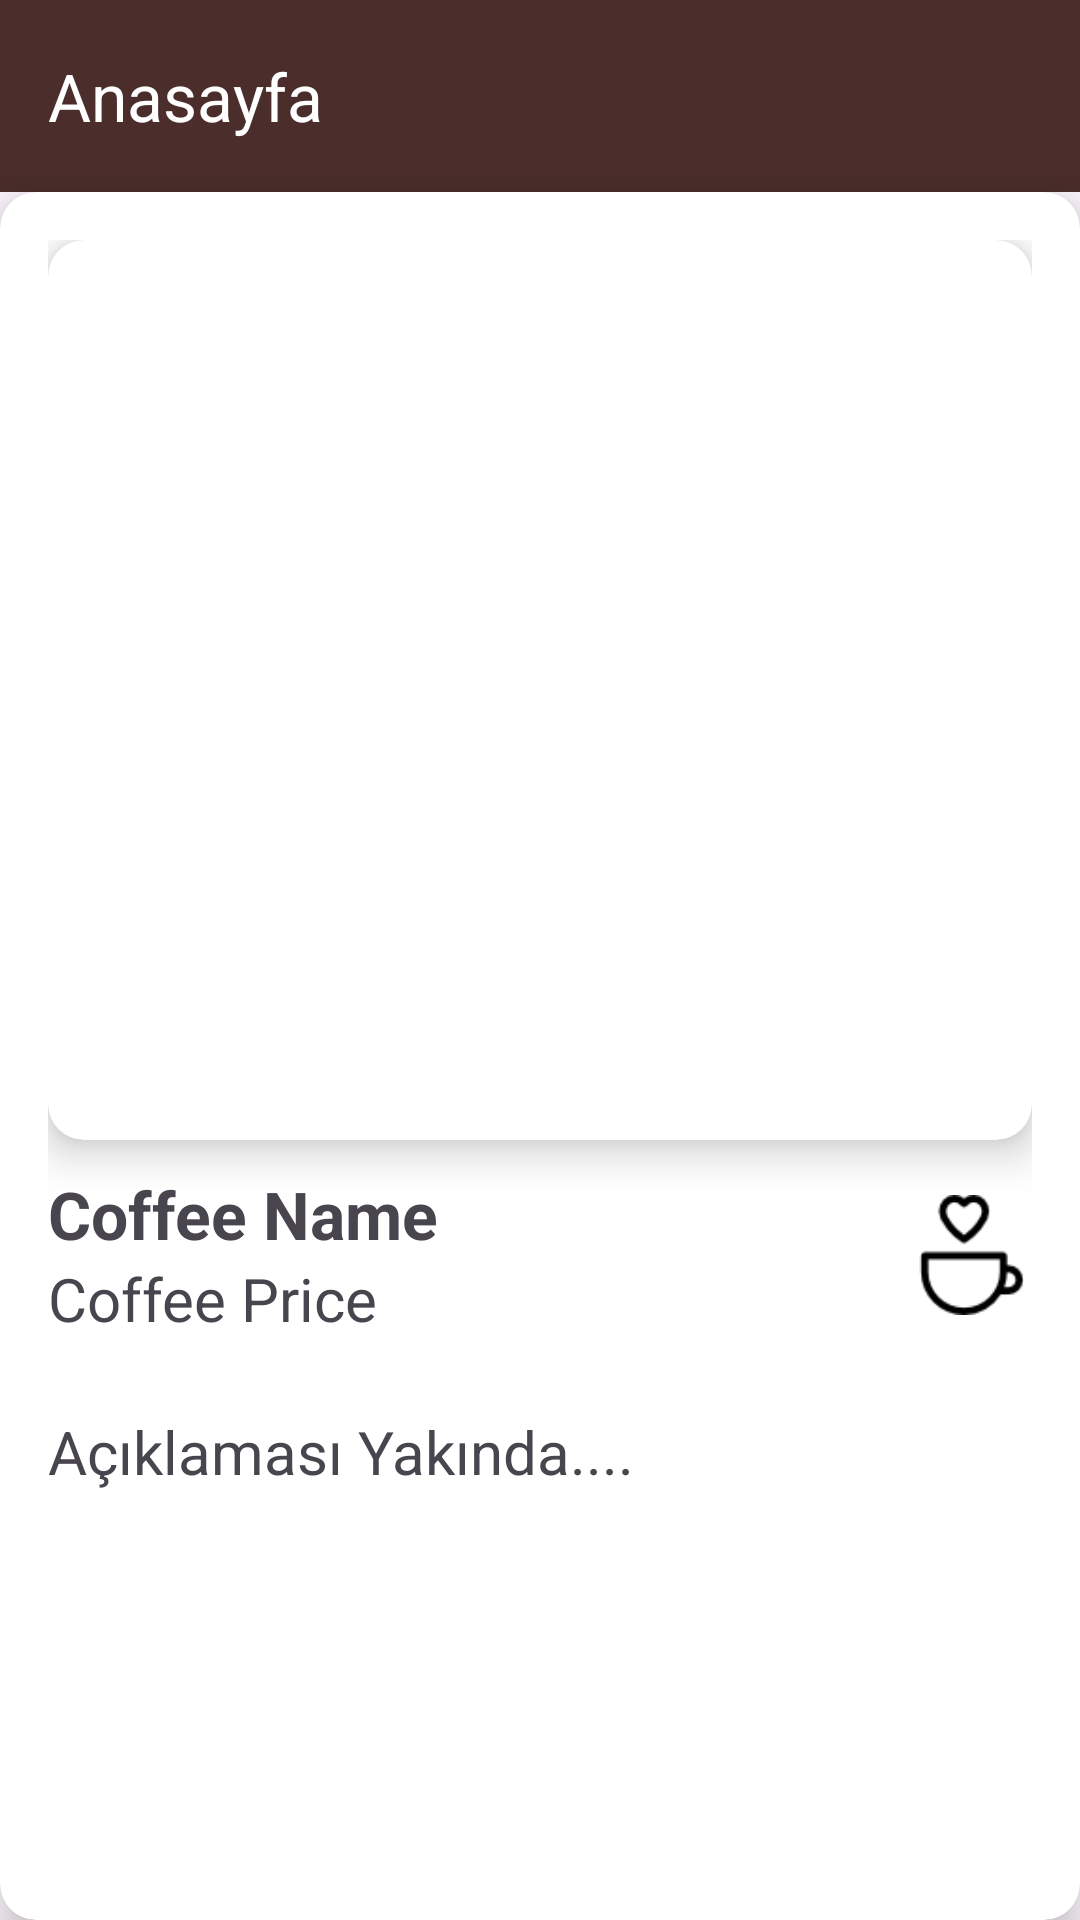

Named icons in this screenshot (1080*1920) and their centers, (x,y):
notfavorite: (972,1255)
